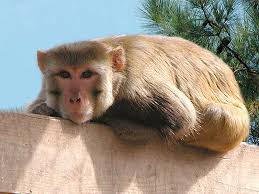monkey: (19, 15, 259, 171)
